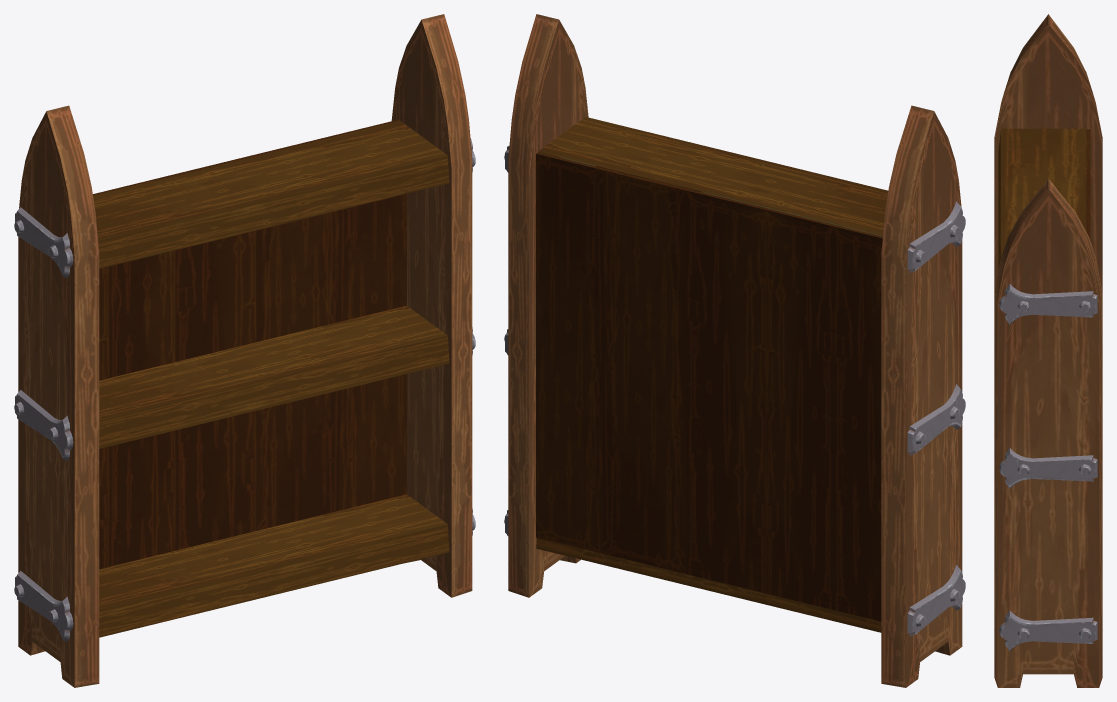
Rendered from Shelf_Arch.gltf.
3 renders of one model, left to right at view 1: azimuth 30°, elevation 25°; view 2: azimuth 150°, elevation 25°; view 3: azimuth 270°, elevation 25°, orthographic. The views are drawn at different scales.
Parts seen in each view (by area): view 1: Shelf_Arch; view 2: Shelf_Arch; view 3: Shelf_Arch.
Boxes of the visible parts, <box> form: Shelf_Arch: <box>14,14,475,687</box>; Shelf_Arch: <box>504,14,965,687</box>; Shelf_Arch: <box>994,14,1102,687</box>.
Bounding box in the file's own units: 1.25 × 1.59 × 0.3116.
2 materials, 2 textured.
